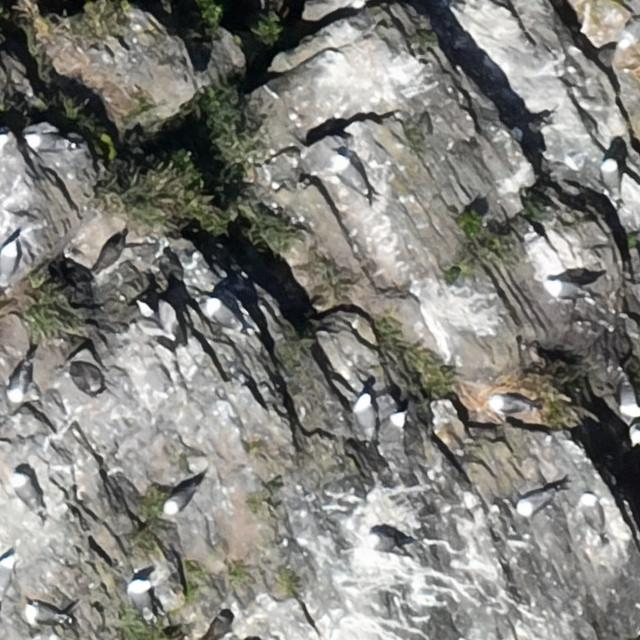umineko: (332, 158, 373, 196), (205, 298, 246, 333), (582, 496, 610, 537), (376, 411, 407, 443), (367, 532, 403, 558), (487, 396, 535, 415), (0, 241, 16, 291), (15, 474, 38, 507), (164, 488, 192, 514), (516, 492, 546, 516), (356, 398, 375, 434), (129, 580, 149, 614), (619, 382, 637, 419), (30, 605, 62, 624), (30, 133, 63, 150), (10, 368, 28, 399), (550, 282, 582, 299), (602, 159, 618, 189), (0, 557, 11, 594)
